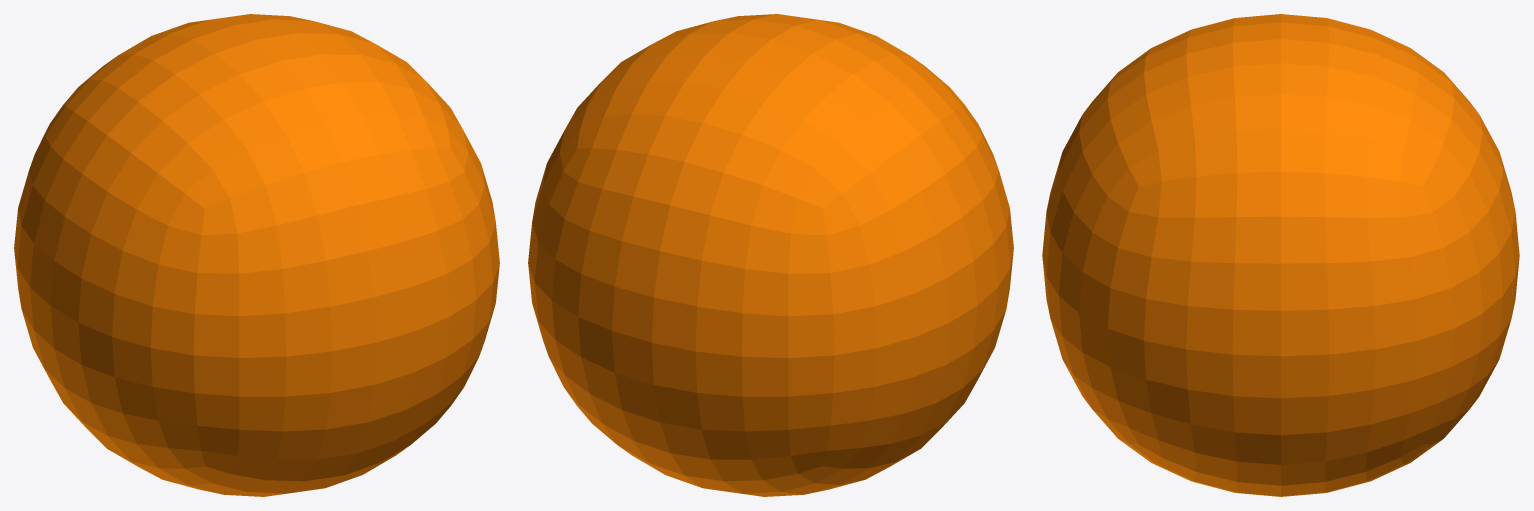
Rendered from explosion.obj.
The picture shows the model from 3 angles, left to right: view 1: azimuth 30°, elevation 25°; view 2: azimuth 150°, elevation 25°; view 3: azimuth 270°, elevation 25°; orthographic projection.
Parts seen in each view (by area): view 1: Cube; view 2: Cube; view 3: Cube.
Boxes of the visible parts, left/top/right/bottom form: Cube: left=14, top=14, right=499, bottom=496; Cube: left=528, top=14, right=1013, bottom=496; Cube: left=1042, top=14, right=1519, bottom=496.
Bounding box in the file's own units: 2.67 × 2.67 × 2.67.
Materials: 1 (1 with a texture image).
